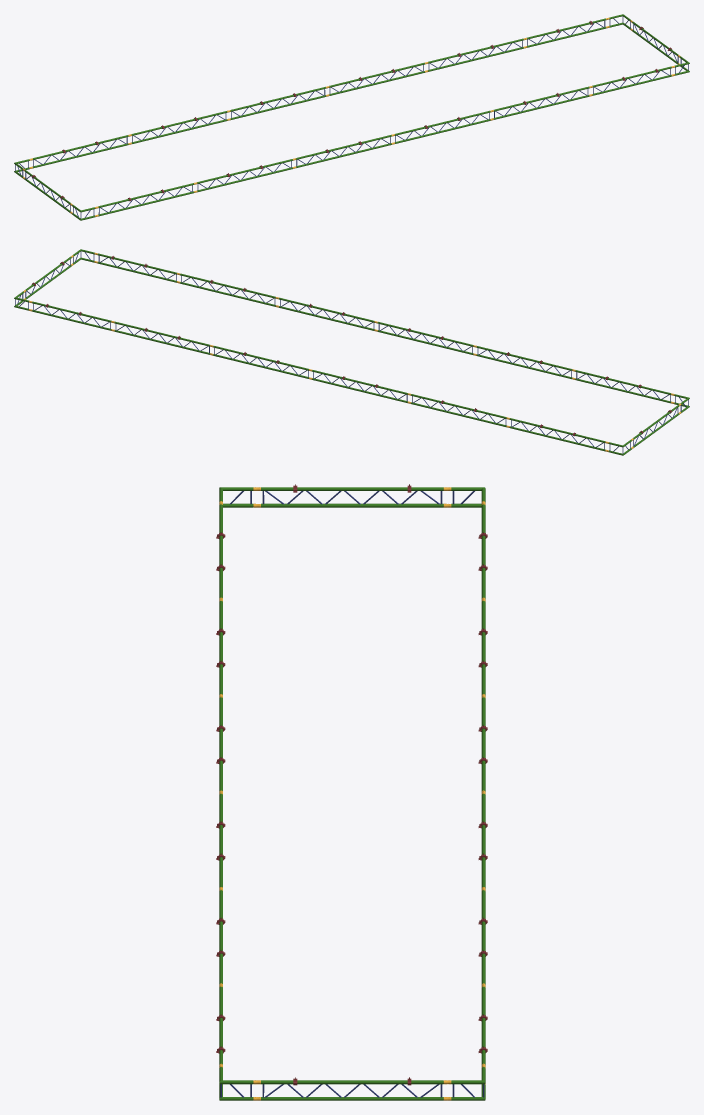
Rendered from SM_Metaltraeger.fbx.
3 renders of one model, top to bottom at view 1: azimuth 30°, elevation 25°; view 2: azimuth 150°, elevation 25°; view 3: azimuth 270°, elevation 25°, orthographic. The views are drawn at different scales.
Visible parts, largest first — view 1: SM_Metaltraeger; view 2: SM_Metaltraeger; view 3: SM_Metaltraeger.
Boxes of the visible parts, x1=… form: SM_Metaltraeger: x1=14, y1=14, x2=689, y2=220; SM_Metaltraeger: x1=14, y1=249, x2=689, y2=455; SM_Metaltraeger: x1=216, y1=484, x2=487, y2=1100.
Size of the model in its own units: 1856 by 33.54 by 357.
